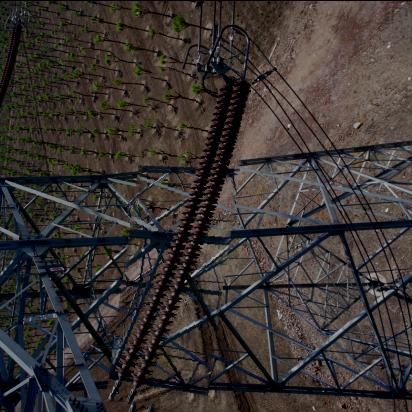insulator: (118, 69, 242, 412)
